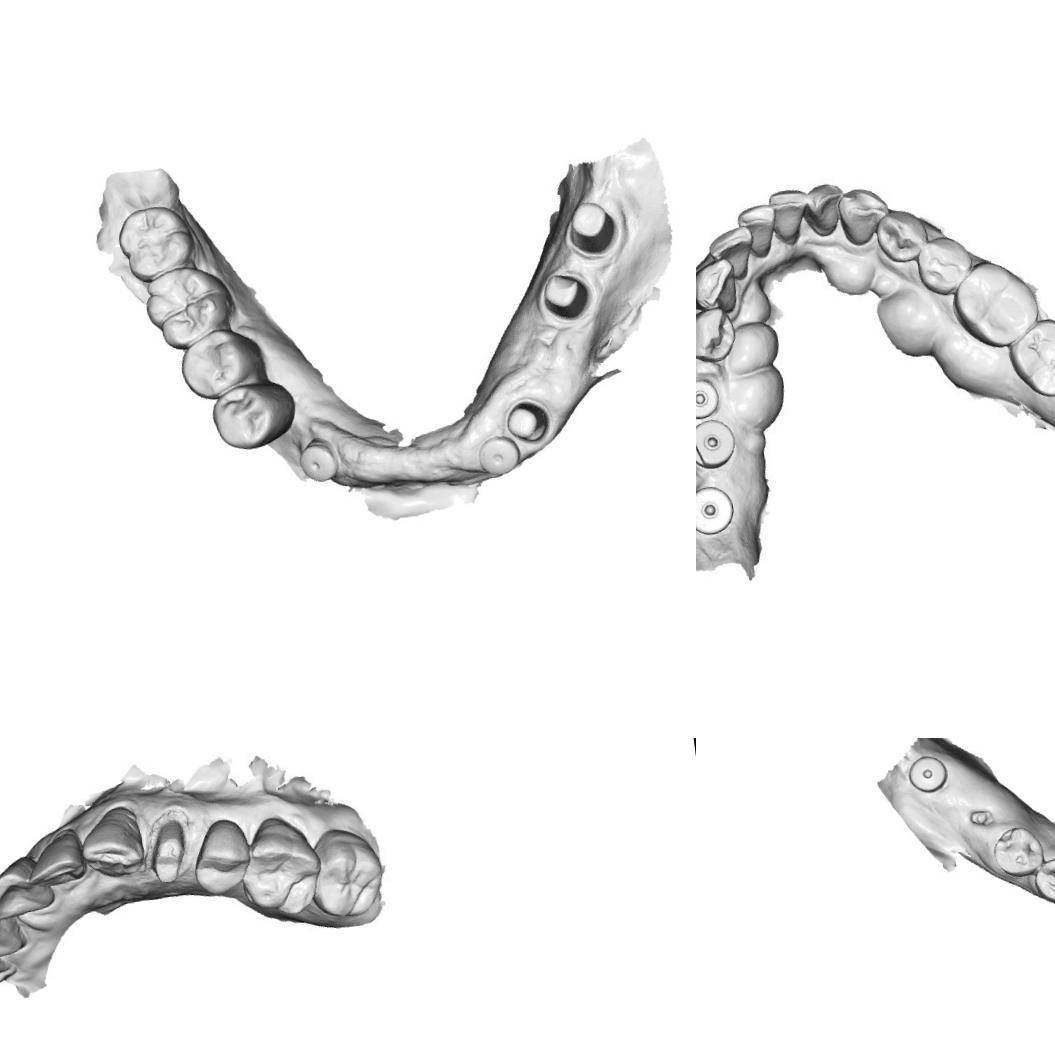abutment: (561, 198, 621, 258), (536, 266, 594, 324), (502, 395, 552, 448)
canine: (80, 802, 146, 886), (835, 182, 893, 252), (696, 254, 742, 316)
crown: (147, 813, 193, 886)
implant: (696, 478, 740, 541), (696, 416, 738, 474), (476, 432, 520, 481), (296, 437, 338, 488), (905, 752, 951, 797), (696, 373, 720, 423)
incisor: (26, 830, 90, 890), (706, 224, 758, 286), (0, 863, 53, 921), (804, 176, 844, 241), (766, 188, 809, 247), (737, 202, 778, 260), (0, 909, 29, 968)
molar: (140, 261, 240, 355), (954, 257, 1043, 350), (241, 812, 322, 914), (308, 821, 384, 918), (114, 202, 198, 288), (1014, 320, 1055, 399)
premolar: (174, 325, 266, 404), (209, 378, 298, 456), (196, 822, 255, 894), (910, 234, 974, 300), (990, 821, 1046, 880), (696, 302, 742, 366), (877, 211, 927, 265), (1029, 852, 1055, 907)
